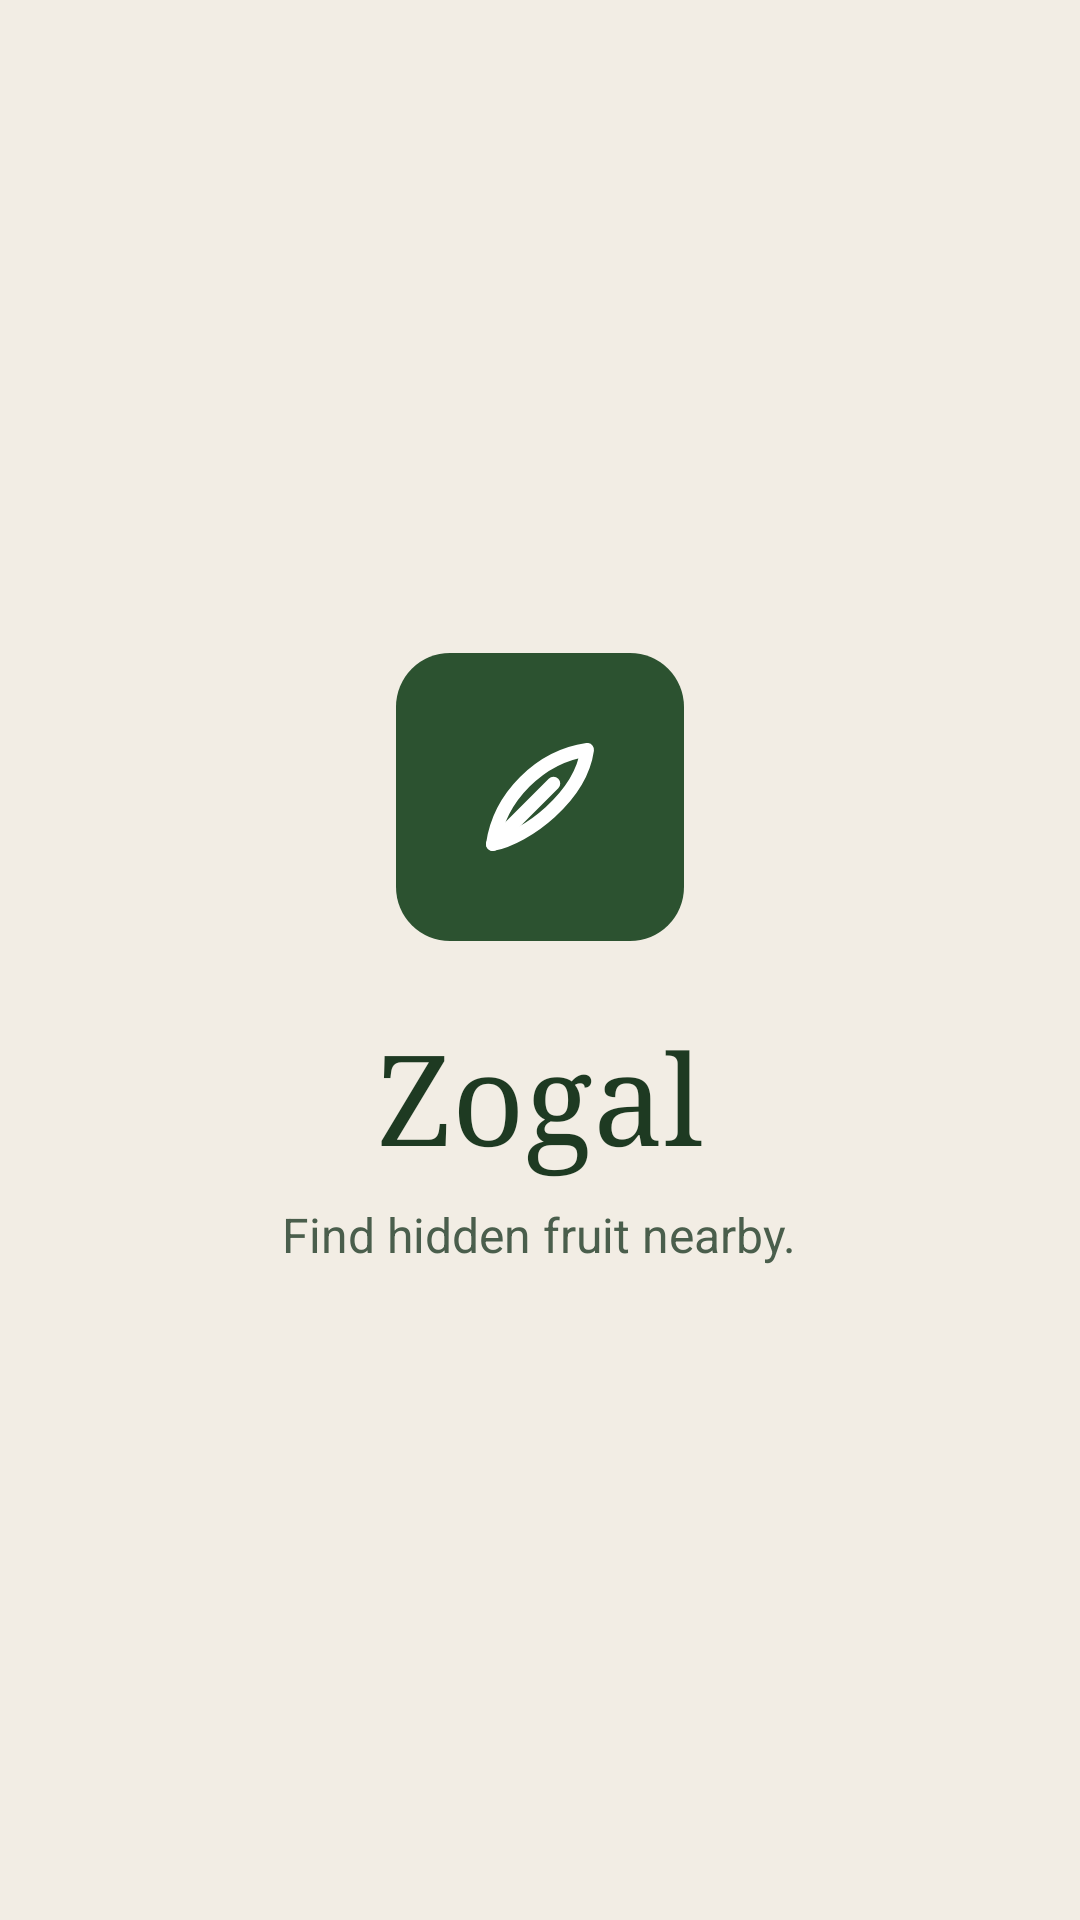

Icon click points for this 1080px×1920px phone screenshot, format (x,y):
leaf: (540,797)
